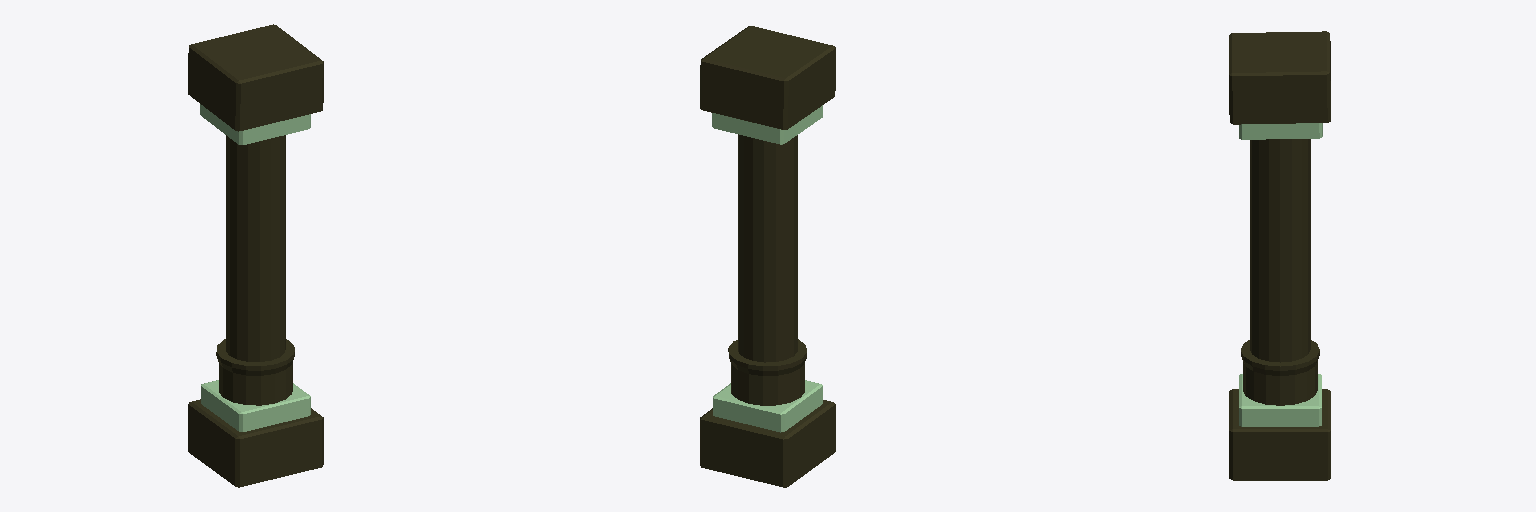
The model's file is pillar2B(F186).obj.
3 views of the same model, side by side, from view 1: azimuth 30°, elevation 25°; view 2: azimuth 150°, elevation 25°; view 3: azimuth 270°, elevation 25° (orthographic).
Visible parts, largest first — view 1: Cylinder, Cube.002, Cube, Cube.001, Cube.003; view 2: Cylinder, Cube.002, Cube, Cube.001, Cube.003; view 3: Cylinder, Cube.002, Cube, Cube.001, Cube.003.
Boxes of the visible parts, x1=… form: Cylinder: x1=216, y1=135, x2=294, y2=405; Cube.002: x1=188, y1=24, x2=323, y2=131; Cube: x1=188, y1=399, x2=323, y2=487; Cube.001: x1=201, y1=380, x2=310, y2=431; Cube.003: x1=200, y1=104, x2=310, y2=144; Cylinder: x1=728, y1=134, x2=806, y2=405; Cube.002: x1=700, y1=26, x2=835, y2=129; Cube: x1=700, y1=400, x2=835, y2=487; Cube.001: x1=713, y1=380, x2=822, y2=432; Cube.003: x1=712, y1=105, x2=822, y2=144; Cylinder: x1=1241, y1=139, x2=1319, y2=405; Cube.002: x1=1229, y1=31, x2=1330, y2=124; Cube: x1=1229, y1=389, x2=1330, y2=480; Cube.001: x1=1239, y1=374, x2=1321, y2=426; Cube.003: x1=1239, y1=123, x2=1322, y2=139.
Size of the model in its own units: 1.03 by 4.59 by 1.04.